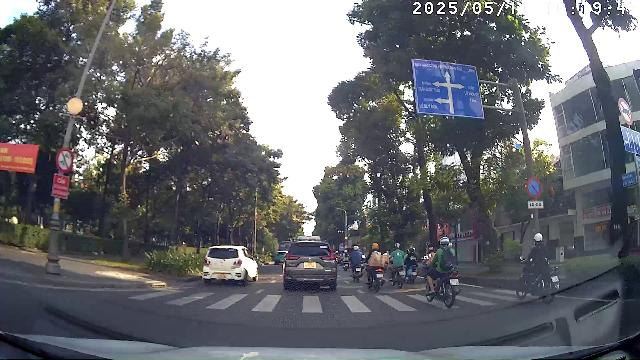131a-cam-do-xe: (526, 178, 542, 198)
